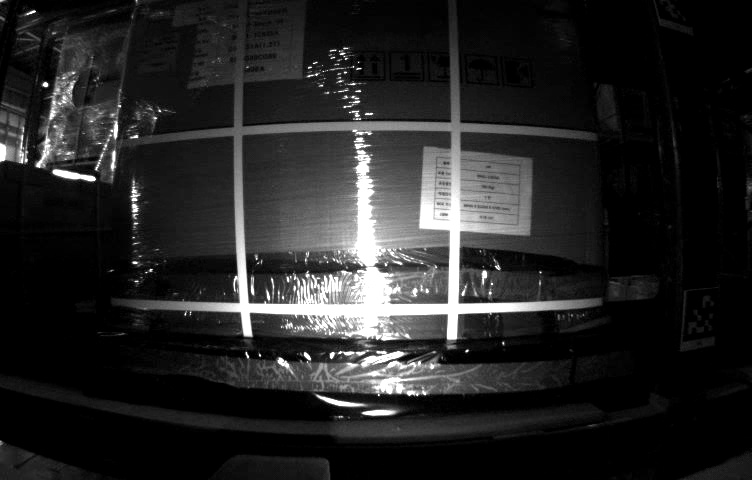True Barcode: (138, 35, 178, 67)
